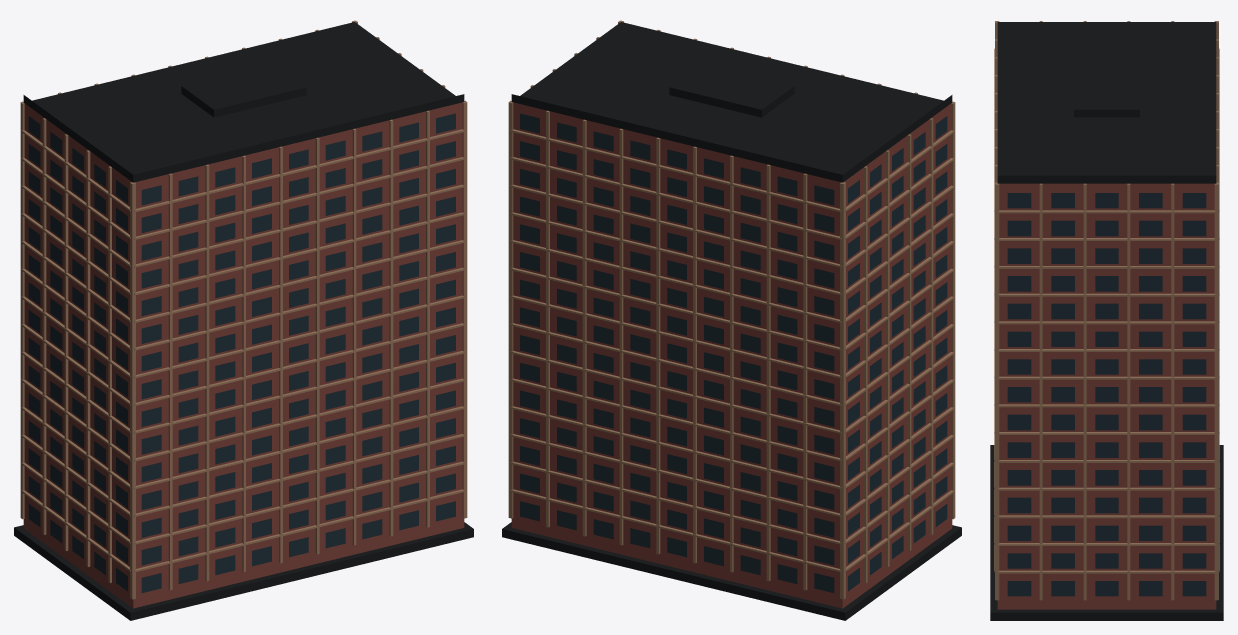
File: office-09.glb
The picture shows the model from 3 angles, left to right: view 1: azimuth 30°, elevation 25°; view 2: azimuth 150°, elevation 25°; view 3: azimuth 270°, elevation 25°; orthographic projection.
Visible parts, largest first — view 1: brick-midrise; view 2: brick-midrise; view 3: brick-midrise.
Part boxes in pixels (x1=…): brick-midrise: x1=14, y1=20, x2=473, y2=620; brick-midrise: x1=502, y1=20, x2=961, y2=620; brick-midrise: x1=990, y1=21, x2=1223, y2=620.
Bounding box in the file's own units: 50.02 × 62.63 × 29.41.
